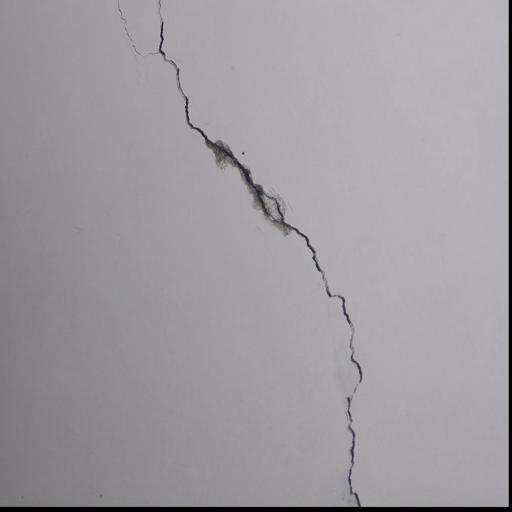major_crack: (110, 0, 368, 507)
